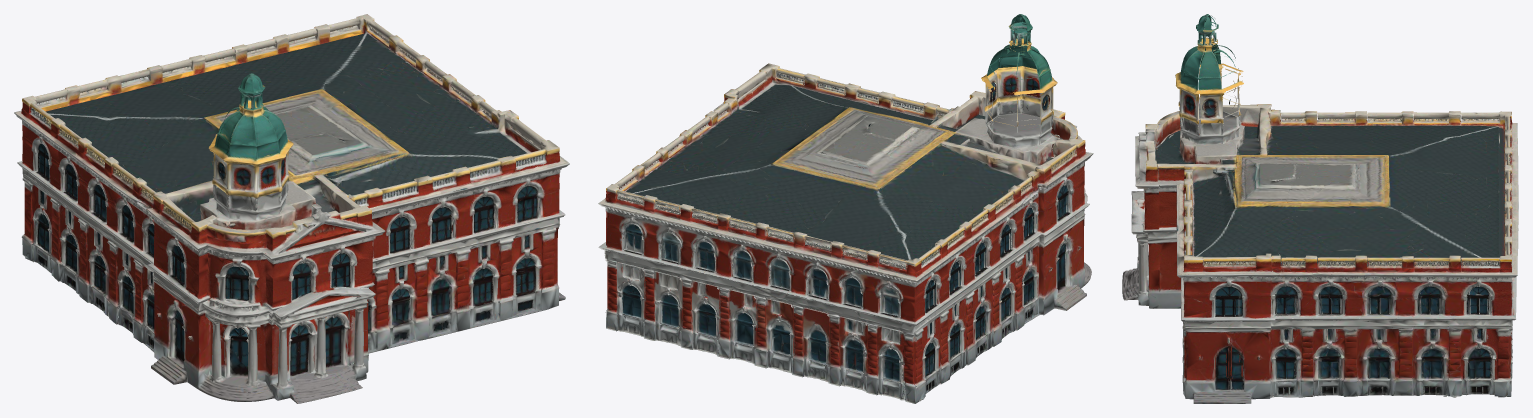
The model's file is domed_bank.glb.
3 views of the same model, side by side, from view 1: azimuth 30°, elevation 25°; view 2: azimuth 150°, elevation 25°; view 3: azimuth 270°, elevation 25° (orthographic). The views are drawn at different scales.
Bounding box in the file's own units: 1.86 × 1.37 × 1.9.
1 material, 1 textured.
